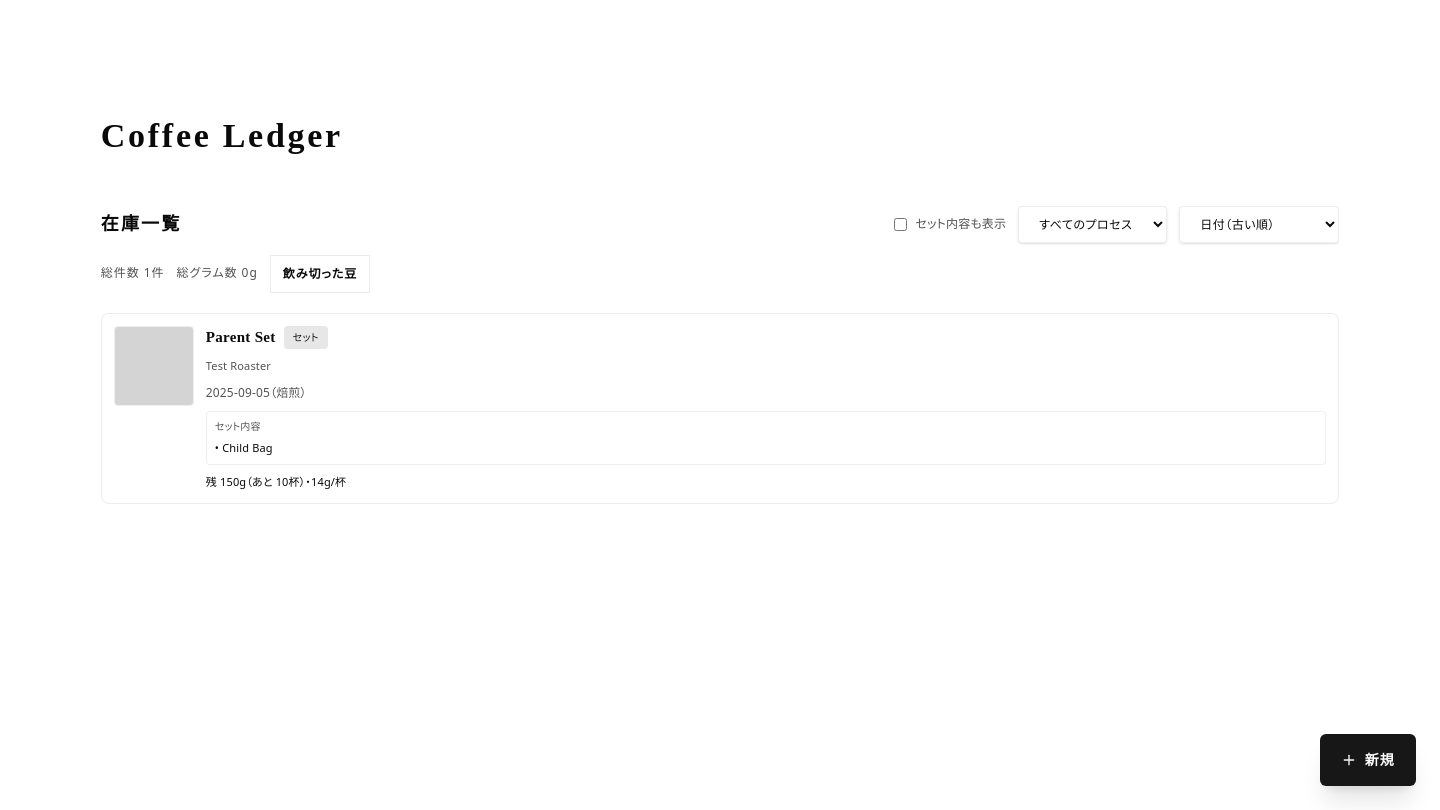
Test case: HomePage › Parent Bag Filtering › should show child bags when filter is enabled
Expected: the heading "Parent Set" is shown, [206,327,276,348]
Enable child bag display
Click the checkbox labelled "セット内容も表示". click: (901, 224)
box: [894,218,908,231]
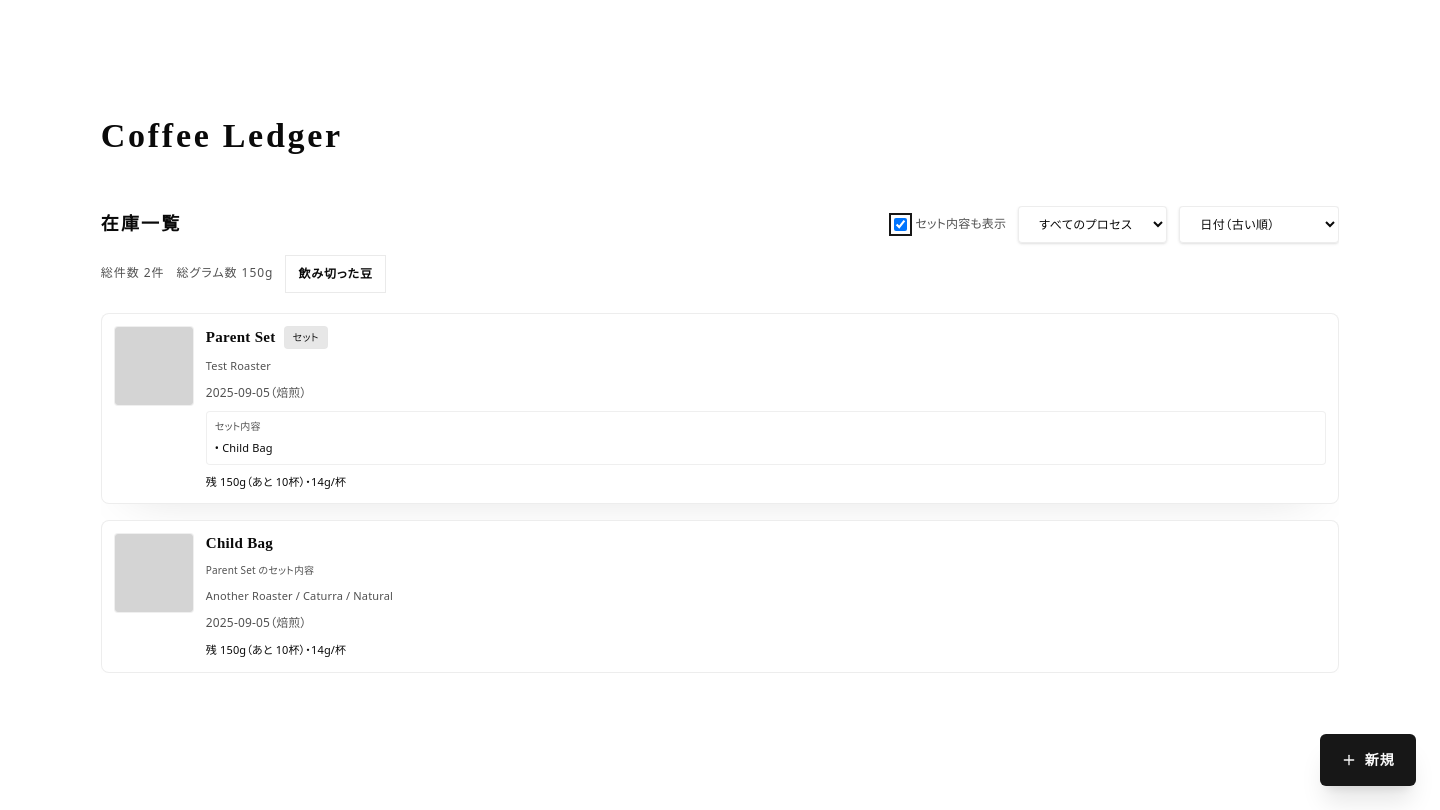
Expected: the heading "Parent Set" is shown, [206,327,276,348]
Expected: the heading "Child Bag" is shown, [206,533,273,554]
